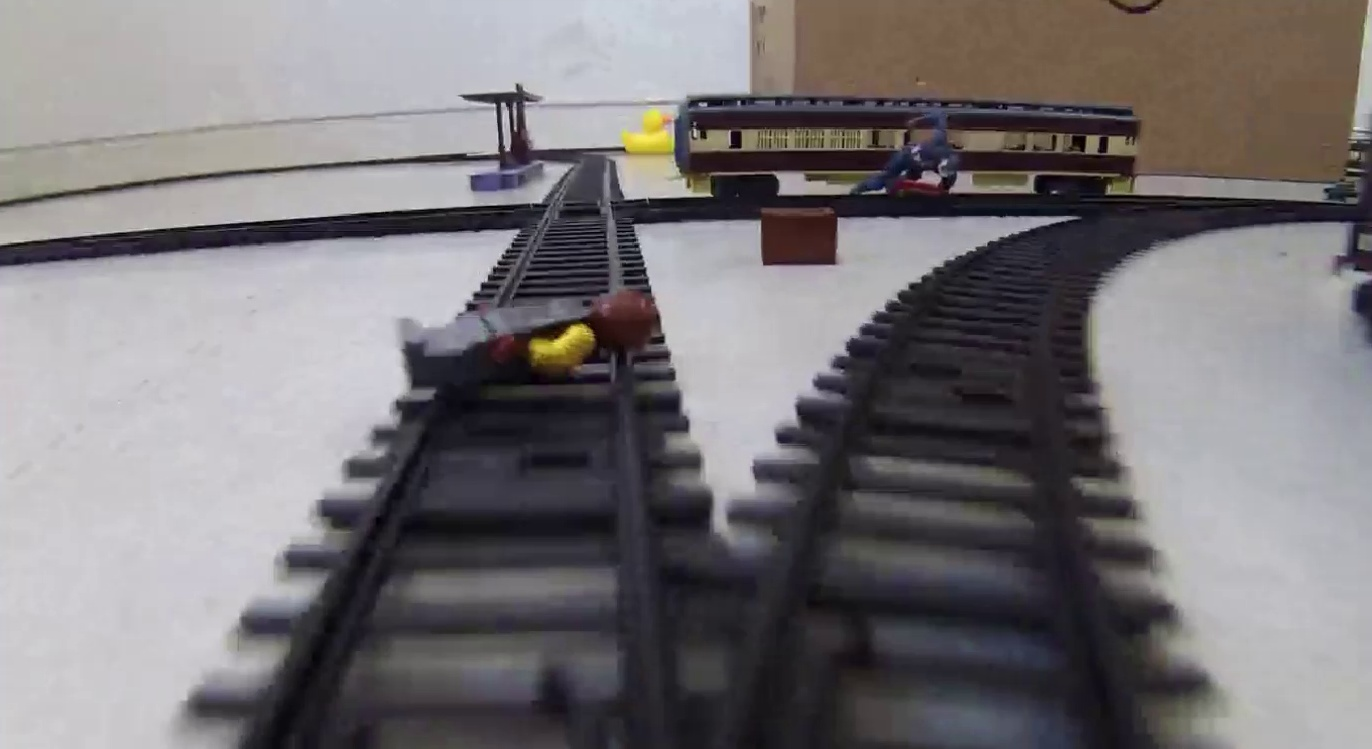box: (759, 204, 839, 268)
people: (393, 288, 659, 386), (848, 112, 963, 195)
